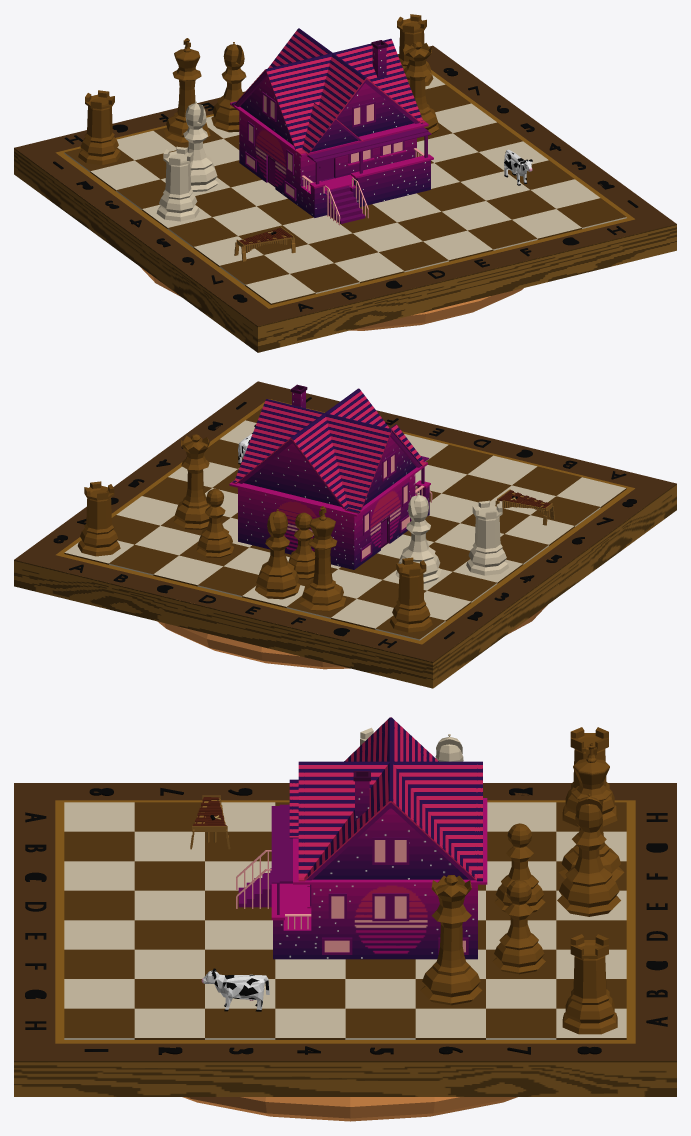
The picture shows the model from 3 angles, top to bottom: view 1: azimuth 30°, elevation 25°; view 2: azimuth 150°, elevation 25°; view 3: azimuth 270°, elevation 25°; orthographic projection. The views are drawn at different scales.
Parts seen in each view (by area): view 1: Cube.002, Cube.156, UNDERGROUND_PIZZA, OBJRANDOM_MARIMBA, ANIMAL_VACA; view 2: Cube.002, Cube.156, UNDERGROUND_PIZZA, OBJRANDOM_MARIMBA; view 3: Cube.002, Cube.156, UNDERGROUND_PIZZA, ANIMAL_VACA, OBJRANDOM_MARIMBA.
Part boxes in pixels (x1=…): Cube.002: x1=14, y1=14, x2=676, y2=352; Cube.156: x1=230, y1=28, x2=433, y2=225; UNDERGROUND_PIZZA: x1=140, y1=267, x2=523, y2=330; OBJRANDOM_MARIMBA: x1=234, y1=226, x2=295, y2=261; ANIMAL_VACA: x1=504, y1=149, x2=532, y2=185; Cube.002: x1=14, y1=381, x2=676, y2=688; Cube.156: x1=229, y1=384, x2=432, y2=569; UNDERGROUND_PIZZA: x1=157, y1=605, x2=547, y2=669; OBJRANDOM_MARIMBA: x1=495, y1=489, x2=554, y2=525; Cube.002: x1=14, y1=727, x2=676, y2=1096; Cube.156: x1=236, y1=717, x2=487, y2=959; UNDERGROUND_PIZZA: x1=182, y1=1097, x2=517, y2=1121; ANIMAL_VACA: x1=201, y1=968, x2=269, y2=1011; OBJRANDOM_MARIMBA: x1=190, y1=795, x2=230, y2=849.
Bounding box in the file's own units: 3981 × 1696 × 4012.
30 materials, 4 textured.
